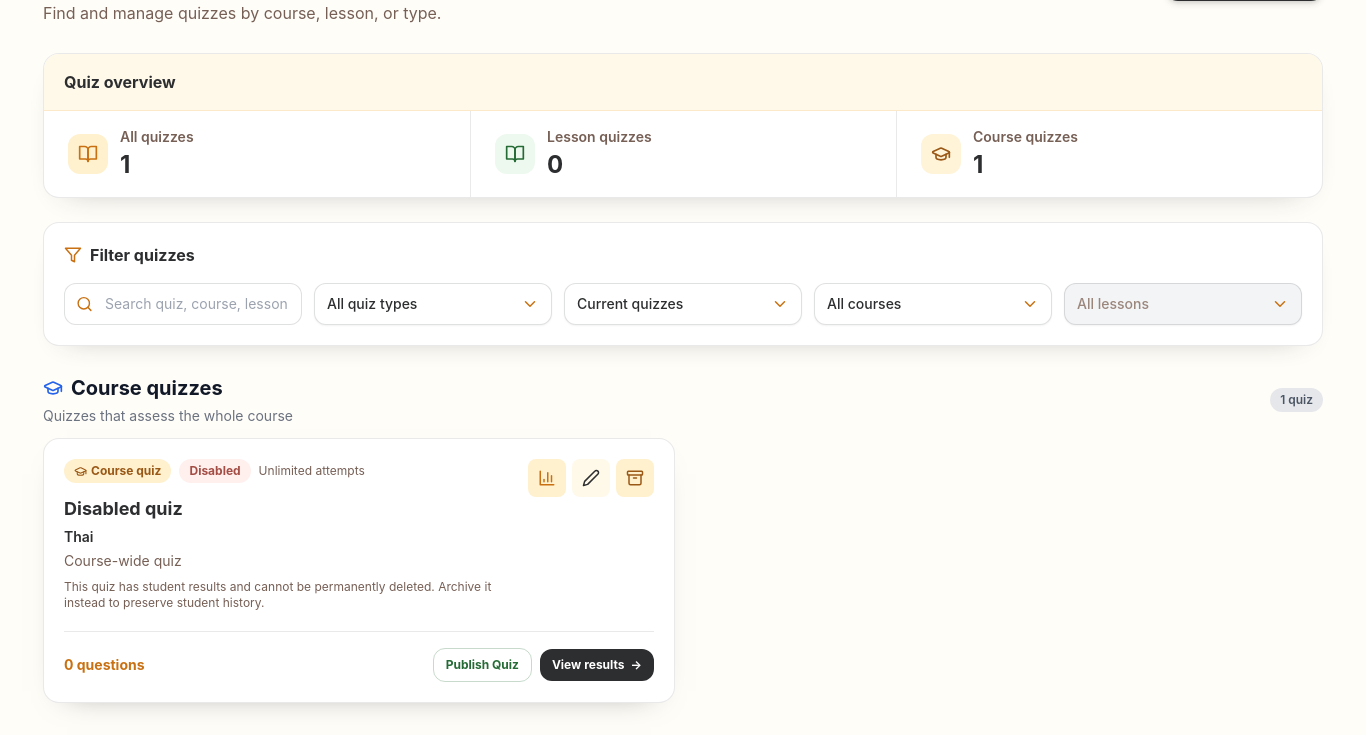
Test: Quiz Management archived recovery › publishes a Disabled Quiz without removing its history
(page scrolled)
Expected: the heading "Disabled quiz" is shown, [64,498,183,519]
Click the button "Publish Quiz": (482, 665) [433,648,532,682]
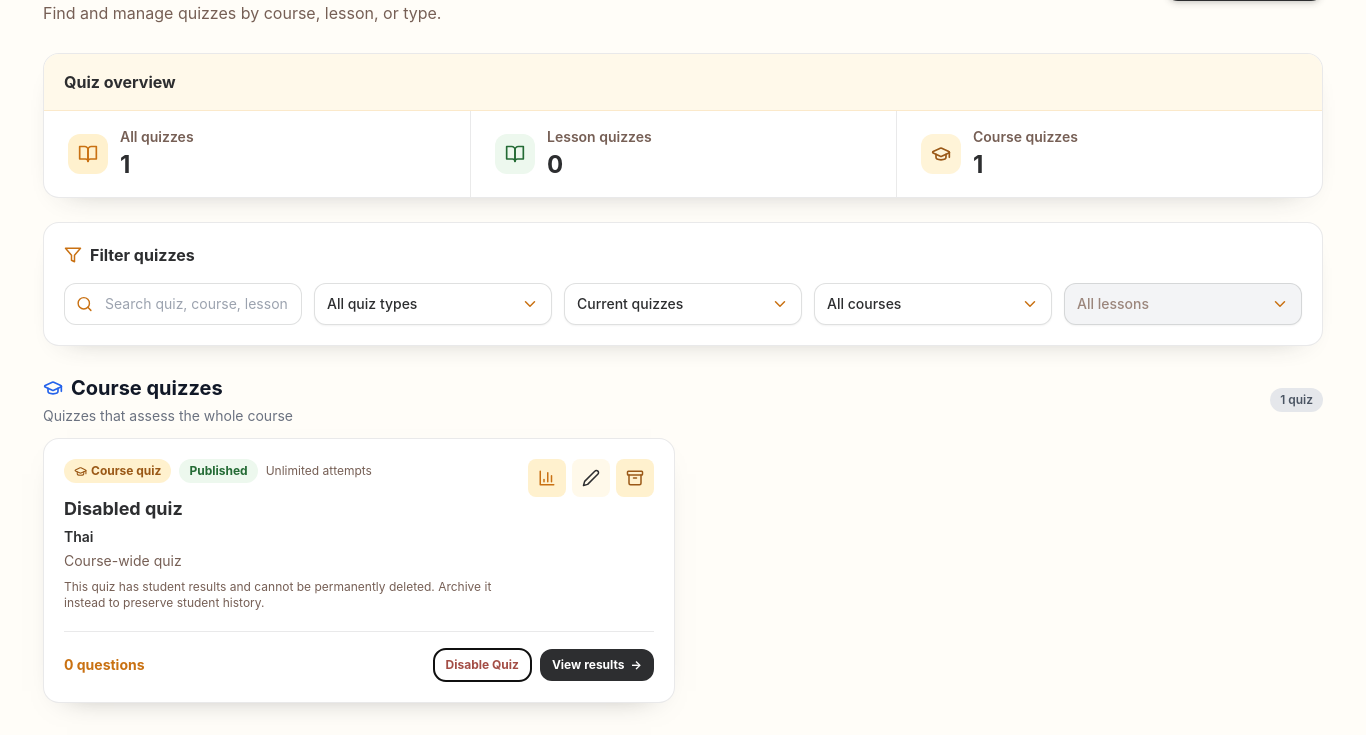
Expected: the text "cannot be permanently deleted" is shown, [64,579,491,610]
Now the text "Published" is shown, box [180,459,258,483]
